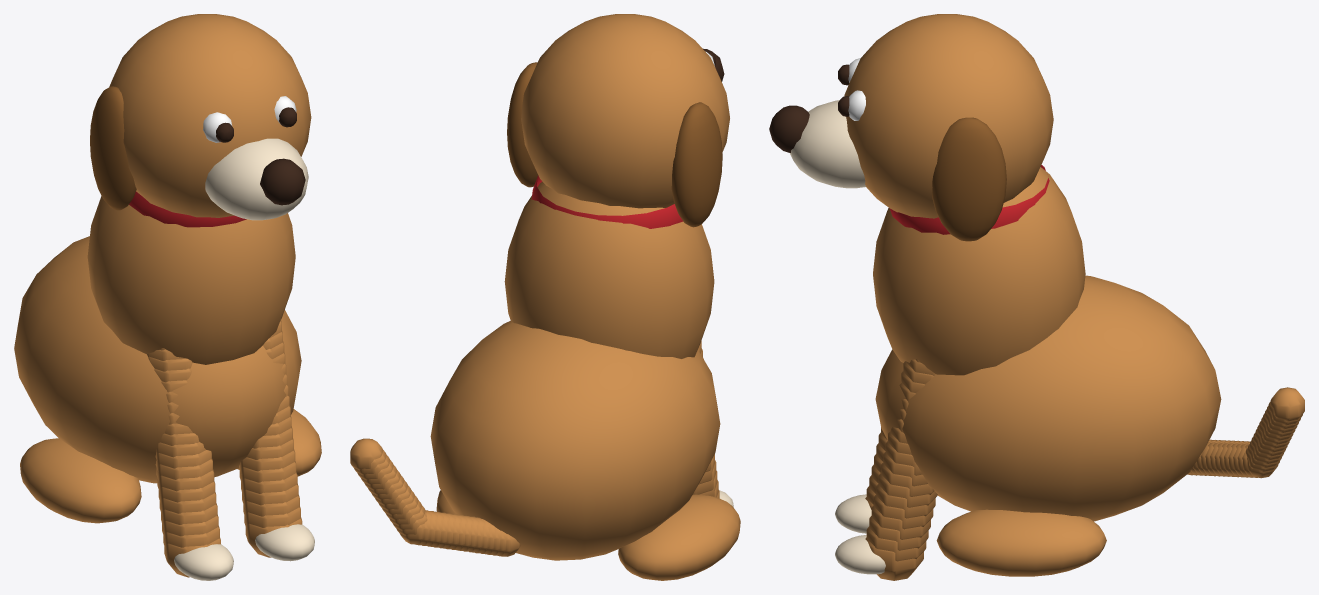
File: dog_sit.glb
3 views of the same model, side by side, from view 1: azimuth 30°, elevation 25°; view 2: azimuth 150°, elevation 25°; view 3: azimuth 270°, elevation 25° (orthographic). The views are drawn at different scales.
Visible parts, largest first — view 1: dog_sit; view 2: dog_sit; view 3: dog_sit.
Boxes of the visible parts, box(x1,y1,x2,y2) form: dog_sit: box(14, 14, 321, 580); dog_sit: box(350, 14, 740, 580); dog_sit: box(769, 14, 1304, 580).
Size of the model in its own units: 0.597 by 1.11 by 1.01.
